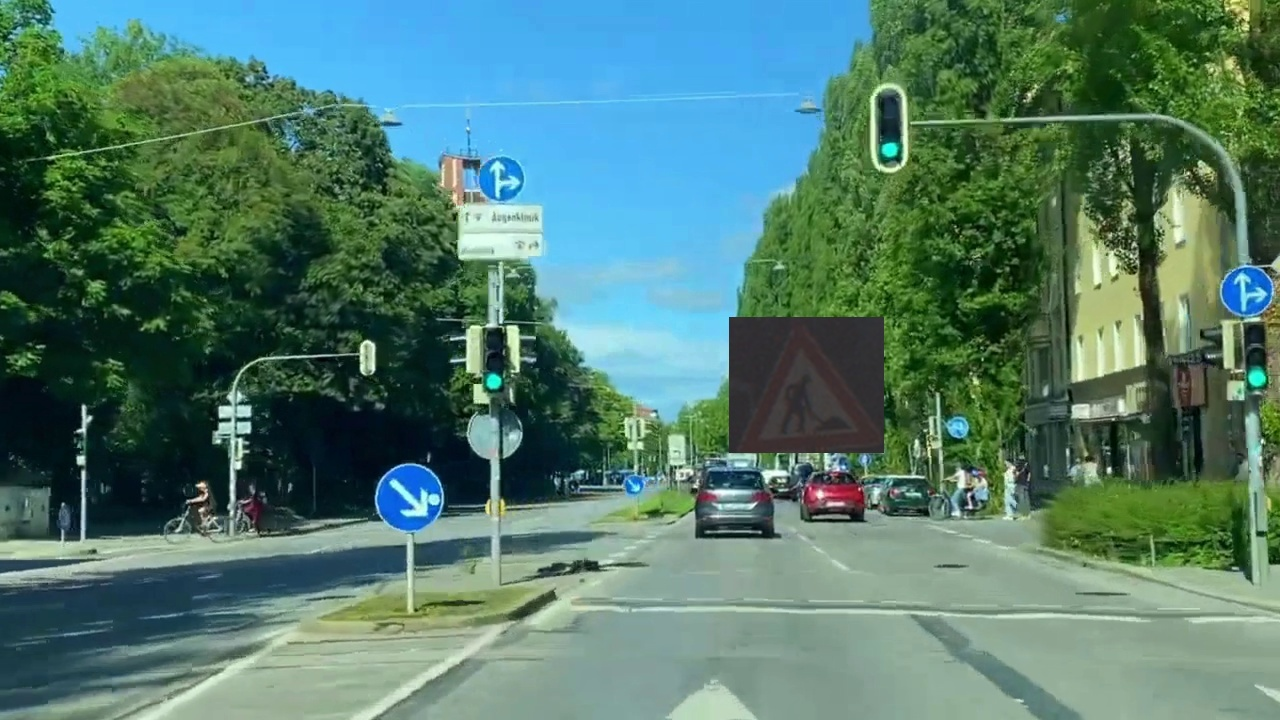Road work: (729, 317, 884, 453)
